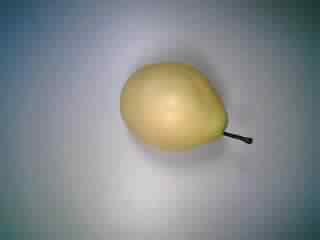pear: (105, 57, 260, 165)
